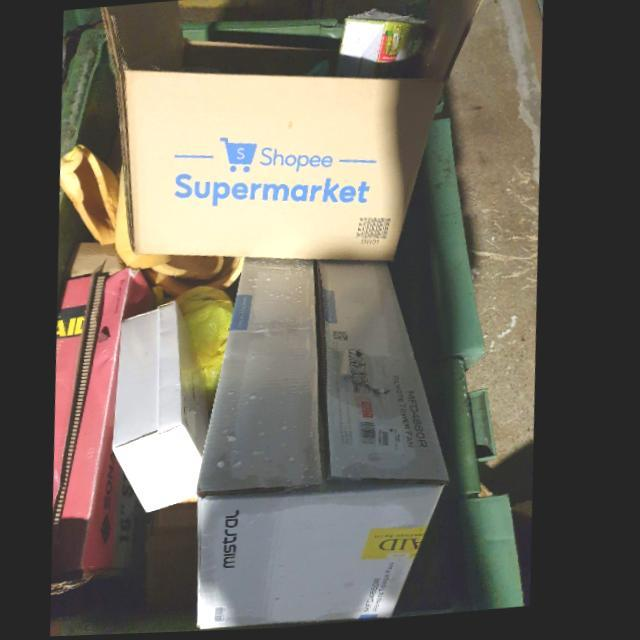paper: (97, 0, 484, 268), (203, 260, 456, 633), (59, 243, 169, 595), (118, 303, 215, 516)
